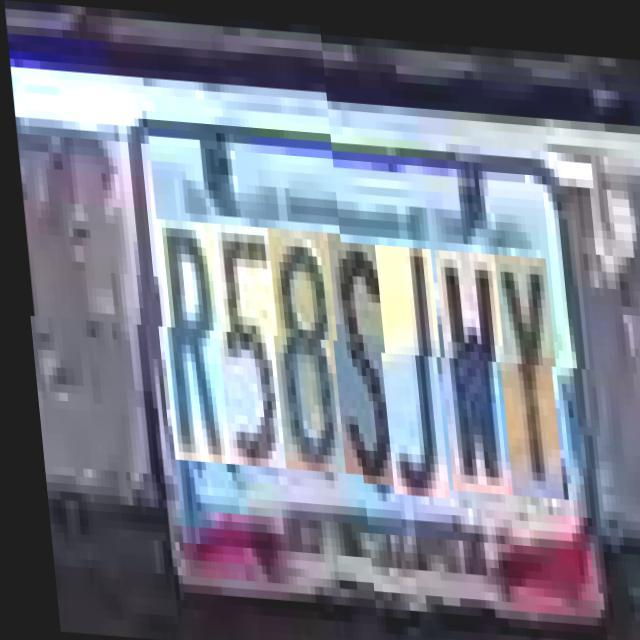5: (208, 228, 282, 473)
8: (264, 232, 342, 477)
J: (371, 239, 445, 492)
R: (153, 225, 227, 470)
S: (323, 235, 398, 480)
W: (430, 242, 508, 488)
Y: (490, 247, 559, 490)
